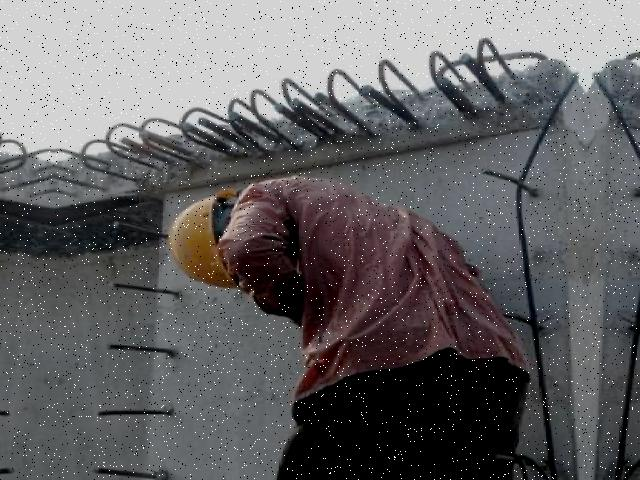Helmet: (171, 183, 234, 304)
